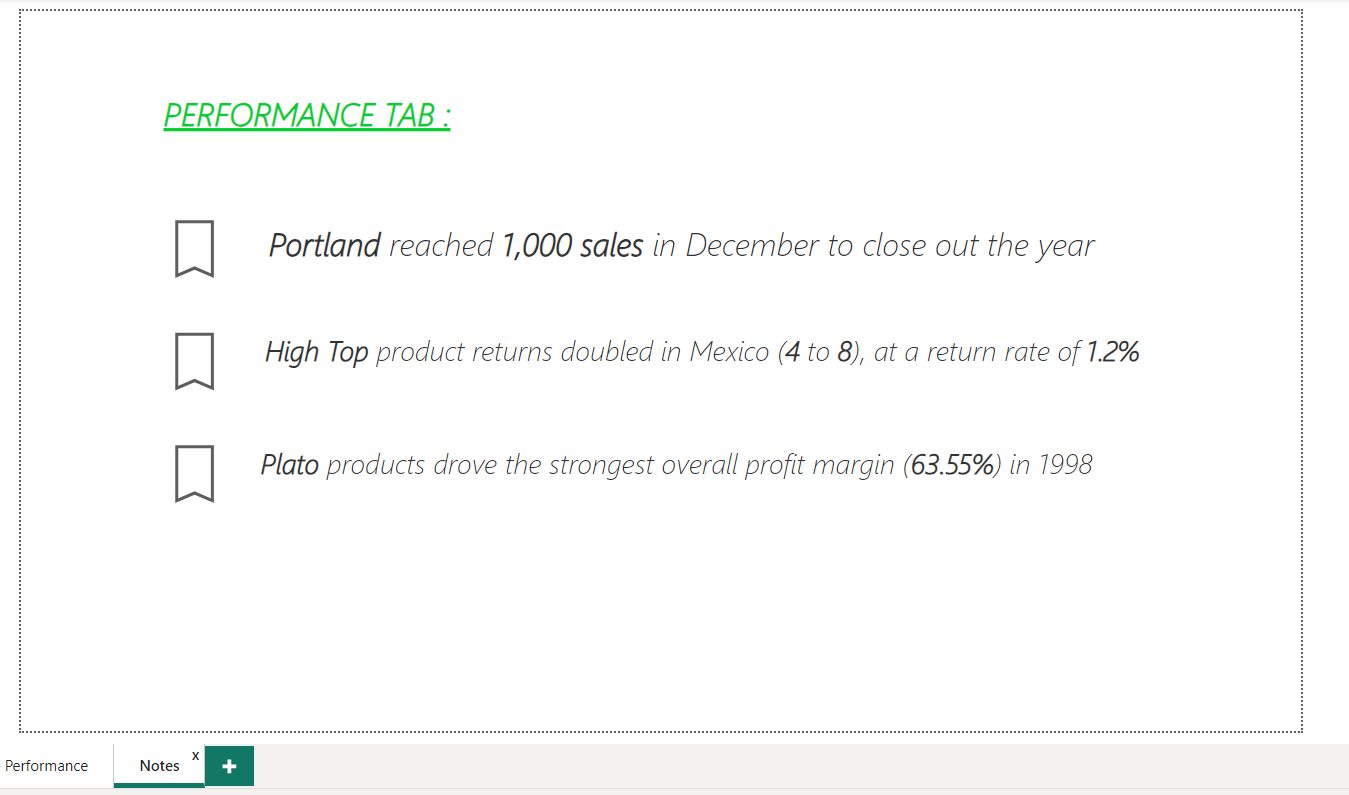

The page's visual inventory and layout, read from the dashboard file:
{"tool":"powerbi","page":{"name":"Notes","canvas":[1280,720],"ordinal":1},"visuals":[{"type":"textbox","box":[213.8,206.2,893.8,63.8],"z":0},{"type":"textbox","box":[212.5,427.5,893.8,63.8],"z":1000},{"type":"textbox","box":[212.5,315,937.5,63.8],"z":2000},{"type":"actionButton","box":[138,193.8,72.5,88.8],"z":3000},{"type":"actionButton","box":[138,418.8,72.5,88.8],"z":4000},{"type":"actionButton","box":[138,306.2,72.5,88.8],"z":5000},{"type":"textbox","box":[137.5,76.2,893.8,63.8],"z":6000}]}

Visuals, with their boxes on the page's 1280x720 design canvas (x1, y1, x2, y2). These are canvas units, not pixel positions in the 1349x795 screenshot, which may show the page scaled, cropped or inside an application window:
textbox: (214,206,1108,270)
textbox: (212,428,1106,491)
textbox: (212,315,1150,379)
actionButton: (138,194,210,283)
actionButton: (138,419,210,508)
actionButton: (138,306,210,395)
textbox: (138,76,1031,140)
